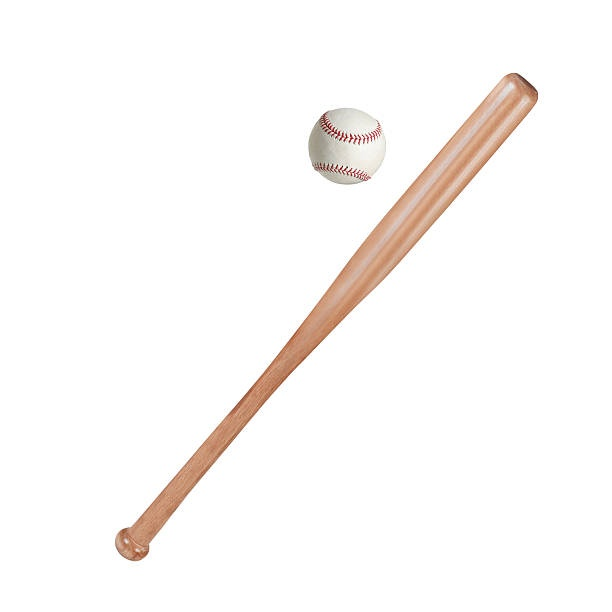bita: (94, 76, 539, 567)
